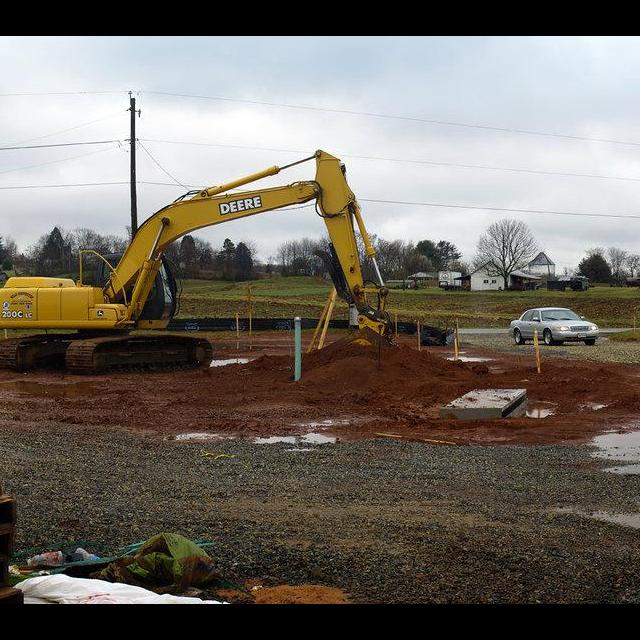Excavator: (0, 144, 457, 379)
sedan: (509, 306, 599, 345)
